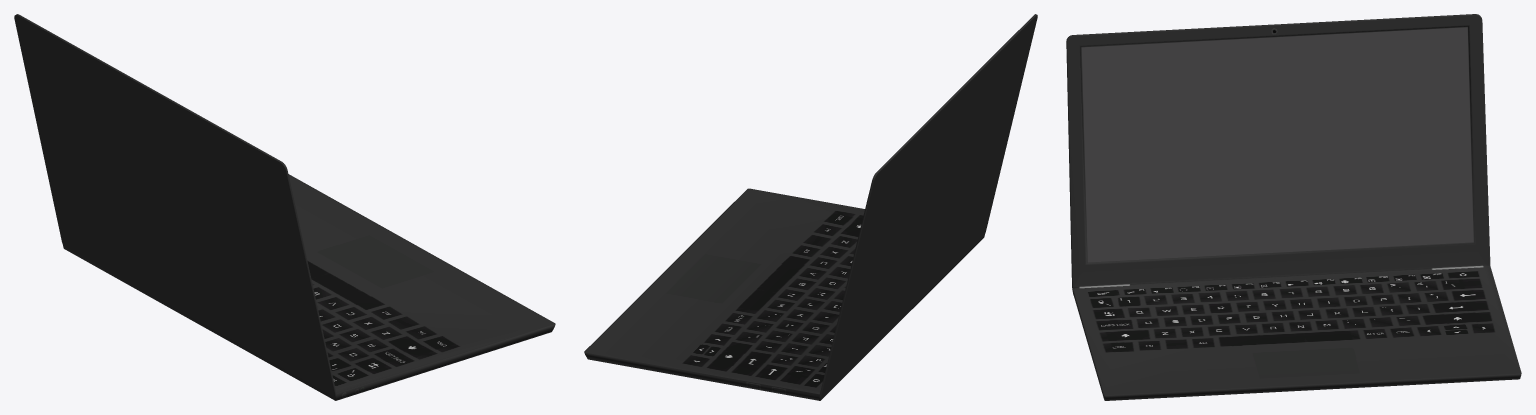
3 views of the same model, side by side, from view 1: azimuth 30°, elevation 25°; view 2: azimuth 150°, elevation 25°; view 3: azimuth 270°, elevation 25° (orthographic). The views are drawn at different scales.
Visible parts, largest first — view 1: SM_Laptop; view 2: SM_Laptop; view 3: SM_Laptop.
Boxes of the visible parts, x1,y1,x2,y2 form: SM_Laptop: [14, 14, 555, 400]; SM_Laptop: [584, 14, 1037, 400]; SM_Laptop: [1066, 14, 1521, 400].
Bounding box in the file's own units: 0.3319 × 0.2362 × 0.4149.
Materials: 1 (1 with a texture image).
